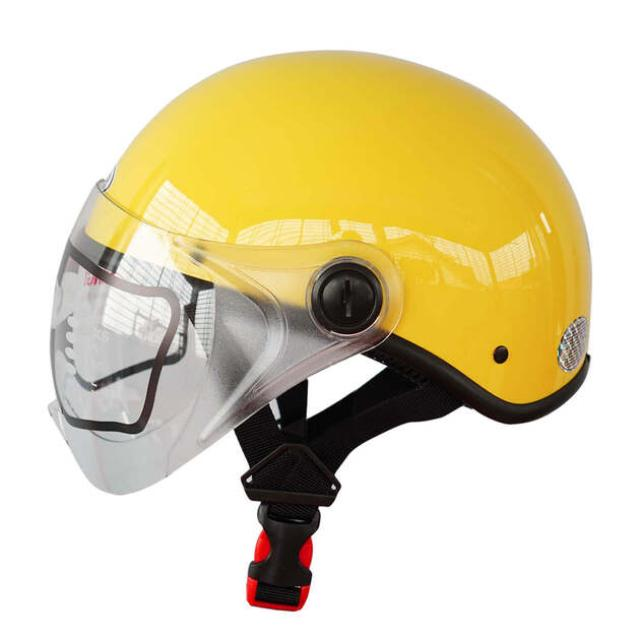Helmet: (44, 47, 595, 499)
